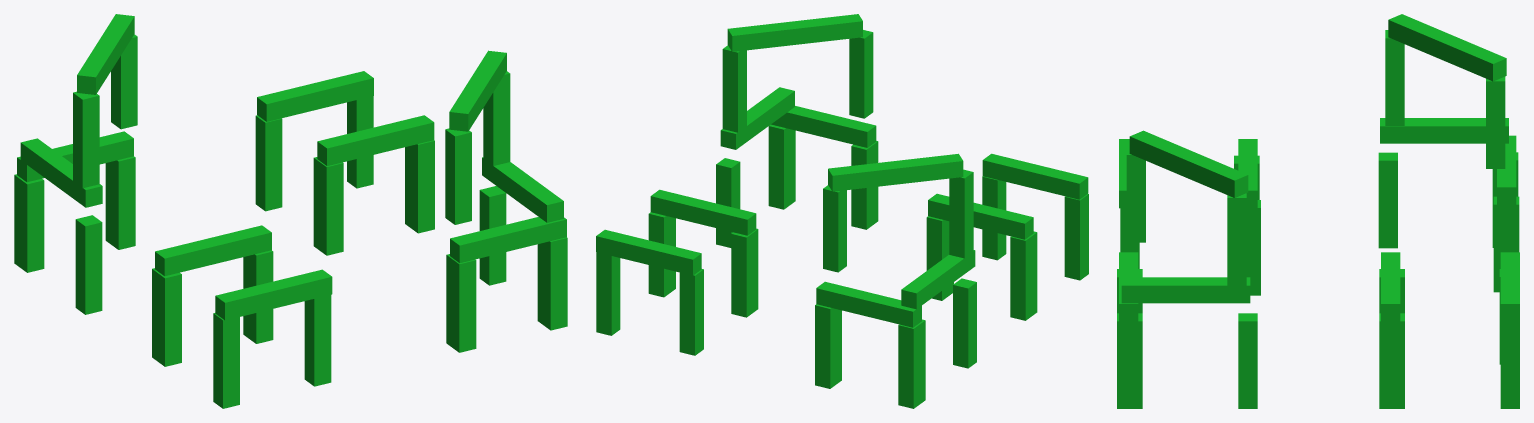
File: Dynamic_1kg_0_5friction.fbx
3 views of the same model, side by side, from view 1: azimuth 30°, elevation 25°; view 2: azimuth 150°, elevation 25°; view 3: azimuth 270°, elevation 25° (orthographic). The views are drawn at different scales.
Visible parts, largest first — view 1: D1DynamicBox9, D1DynamicBox15, D1DynamicBox10, D1DynamicBox16, D1DynamicBox4, D1DynamicBox26, D1DynamicBox2, D1DynamicBox19, D1DynamicBox11, D1DynamicBox27, D1DynamicBox1, D1DynamicBox28 (+16 smaller); view 2: D1DynamicBox21, D1DynamicBox8, D1DynamicBox9, D1DynamicBox15, D1DynamicBox16, D1DynamicBox25, D1DynamicBox4, D1DynamicBox19, D1DynamicBox11, D1DynamicBox26, D1DynamicBox1, D1DynamicBox27 (+16 smaller); view 3: D1DynamicBox8, D1DynamicBox21, D1DynamicBox5, D1DynamicBox24, D1DynamicBox1, D1DynamicBox20, D1DynamicBox28, D1DynamicBox3, D1DynamicBox6, D1DynamicBox23, D1DynamicBox7, D1DynamicBox18 (+11 smaller).
Part boxes in pixels (box(x1,y1,x2,y2)): D1DynamicBox9: box(215, 269, 332, 320); D1DynamicBox15: box(317, 115, 434, 165); D1DynamicBox10: box(155, 225, 271, 276); D1DynamicBox16: box(257, 71, 373, 121); D1DynamicBox4: box(450, 217, 566, 263); D1DynamicBox26: box(14, 174, 44, 272); D1DynamicBox2: box(446, 254, 476, 352); D1DynamicBox19: box(313, 157, 343, 255); D1DynamicBox11: box(152, 268, 181, 366); D1DynamicBox27: box(105, 156, 135, 249); D1DynamicBox1: box(537, 237, 567, 330); D1DynamicBox28: box(75, 215, 102, 314); D1DynamicBox21: box(828, 153, 963, 191); D1DynamicBox8: box(727, 14, 862, 51); D1DynamicBox9: box(982, 153, 1088, 199); D1DynamicBox15: box(650, 189, 756, 235); D1DynamicBox16: box(596, 229, 701, 275); D1DynamicBox25: box(816, 281, 921, 327); D1DynamicBox4: box(771, 106, 876, 147); D1DynamicBox19: box(731, 228, 758, 317); D1DynamicBox11: box(1010, 231, 1037, 320); D1DynamicBox26: box(898, 319, 925, 408); D1DynamicBox1: box(768, 124, 795, 209); D1DynamicBox27: box(815, 304, 841, 388); D1DynamicBox8: box(1129, 130, 1248, 197); D1DynamicBox21: box(1388, 14, 1506, 81); D1DynamicBox5: box(1121, 277, 1250, 303); D1DynamicBox24: box(1380, 118, 1508, 143); D1DynamicBox1: box(1117, 313, 1142, 408); D1DynamicBox20: box(1379, 313, 1404, 408); D1DynamicBox28: box(1378, 152, 1397, 248); D1DynamicBox3: box(1238, 313, 1257, 408); D1DynamicBox6: box(1227, 193, 1246, 285); D1DynamicBox23: box(1486, 76, 1505, 168); D1DynamicBox7: box(1126, 146, 1145, 242); D1DynamicBox18: box(1500, 321, 1519, 408).
Size of what is drawn, in the model's own units: 62.13 by 39 by 62.53.
